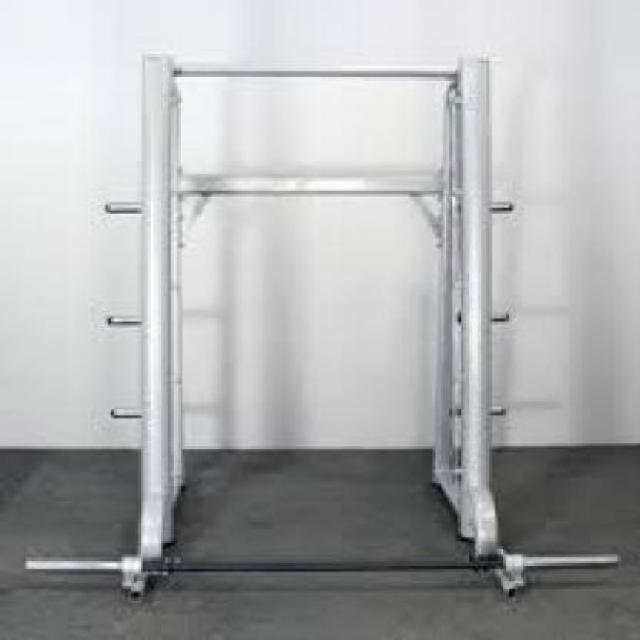smith machine: (26, 54, 622, 601)
